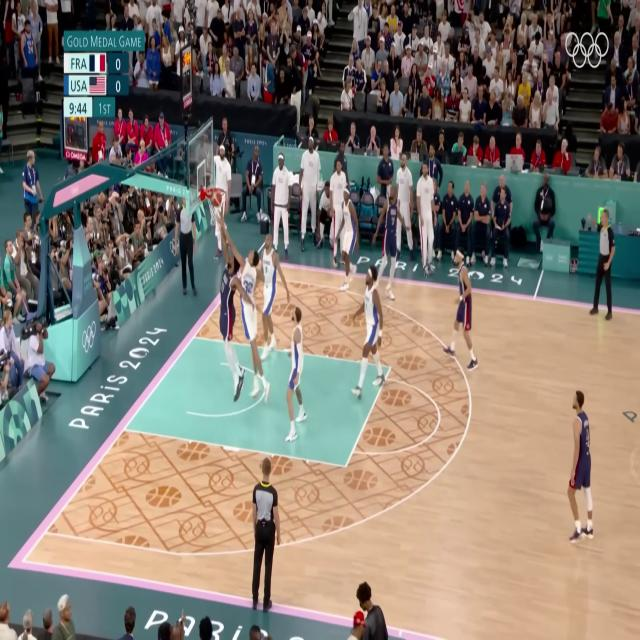ball-handler: (208, 186, 262, 390), (206, 188, 242, 402)
player: (568, 391, 593, 546), (353, 266, 382, 395), (447, 248, 477, 371), (256, 234, 280, 381), (375, 182, 403, 301), (285, 303, 307, 452), (331, 182, 360, 280)
